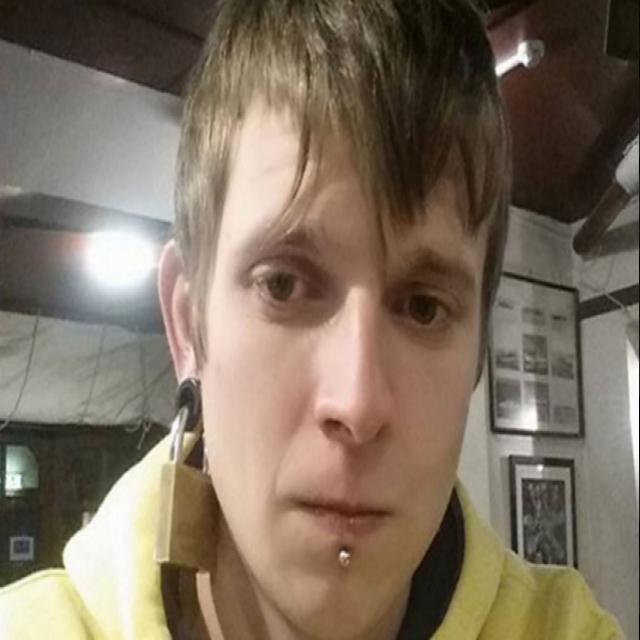earlobe: (177, 345, 201, 401)
eye: (249, 268, 324, 310), (390, 289, 456, 329)
nose: (317, 416, 402, 478)
wholeear: (156, 239, 202, 402)
